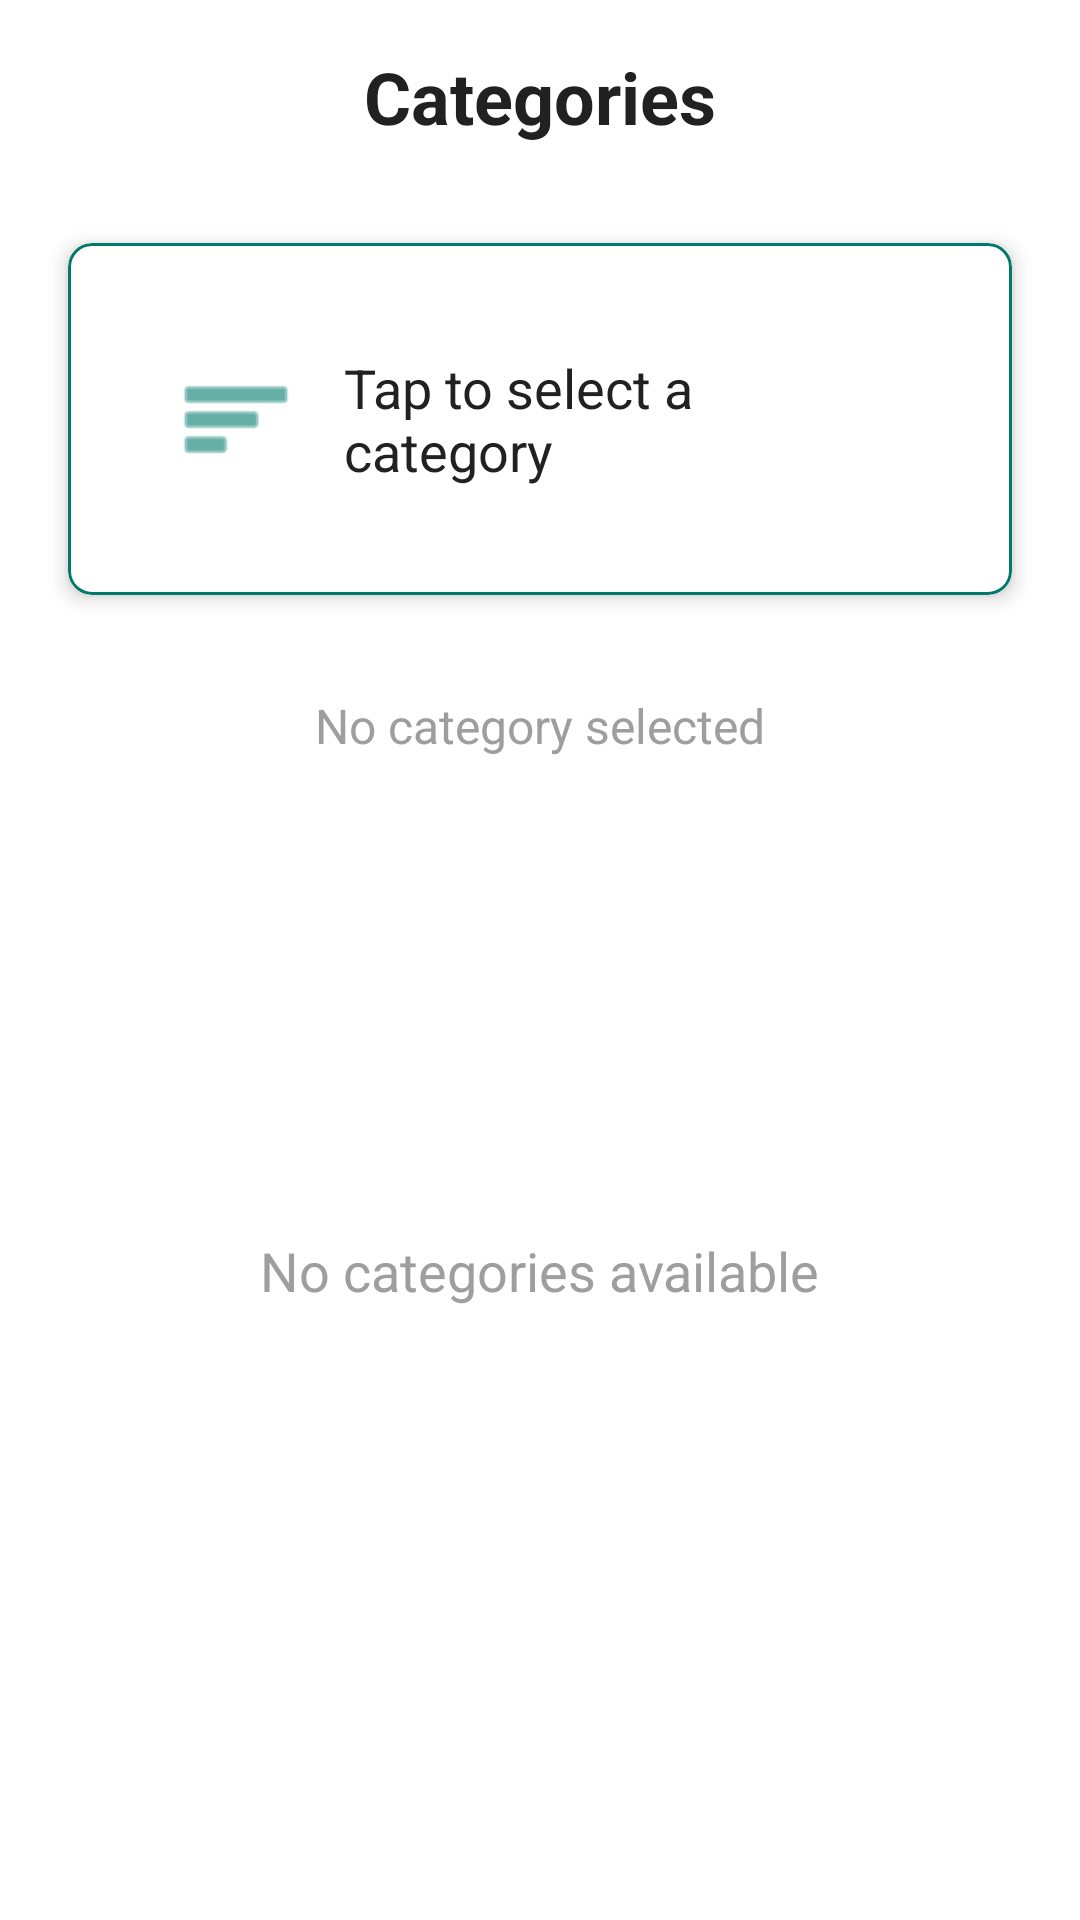

Screen size 1080w x 1920h. Icon name, then its center in pixels as (x=x, y=y):
Select categories: (x=236, y=419)
